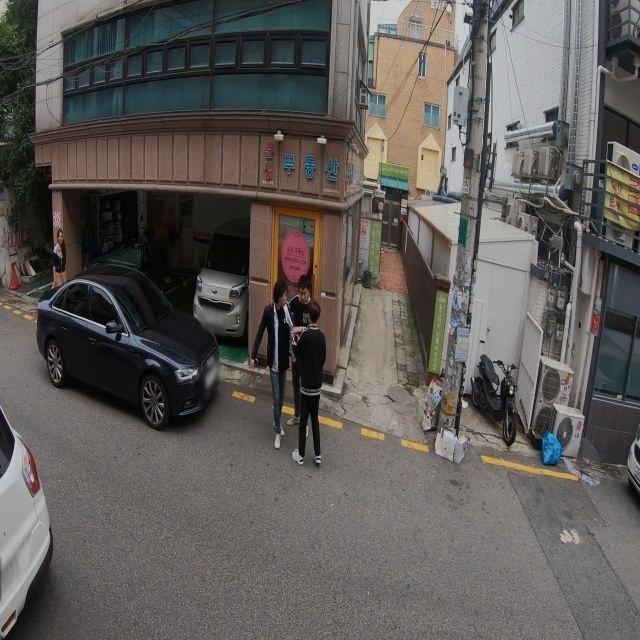fight: (287, 300, 327, 467)
non-fight: (263, 288, 294, 447)
